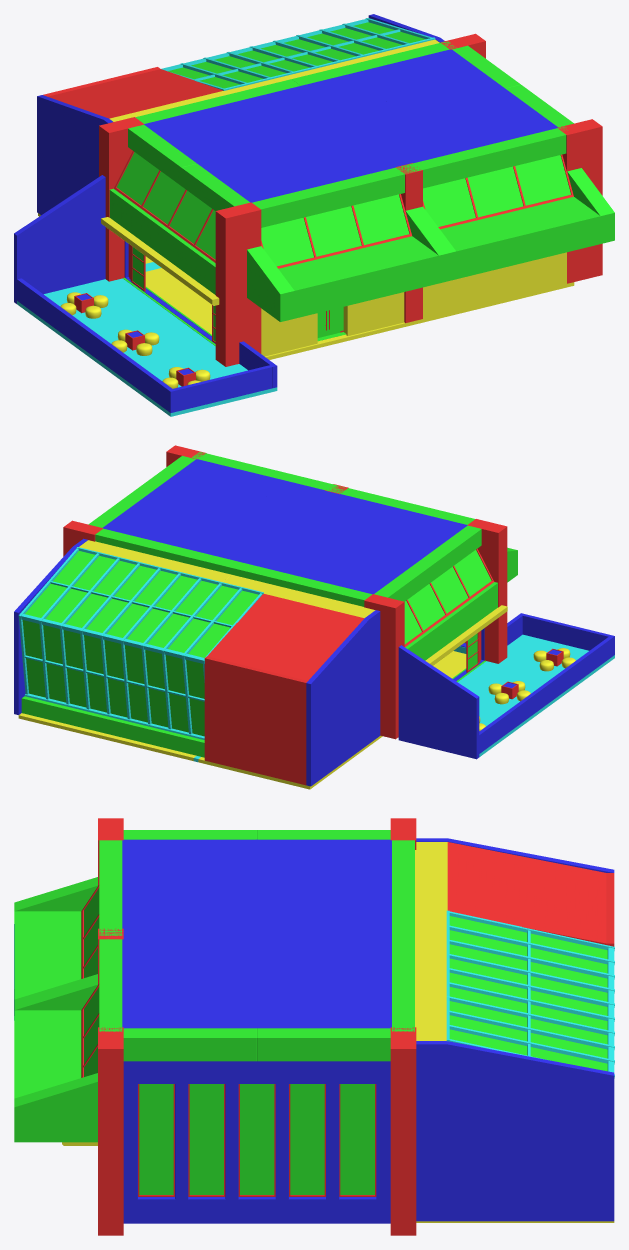
The model's file is OfficeSceneTest.fbx.
The picture shows the model from 3 angles, top to bottom: view 1: azimuth 30°, elevation 25°; view 2: azimuth 150°, elevation 25°; view 3: azimuth 270°, elevation 25°; orthographic projection. The views are drawn at different scales.
Visible parts, largest first — view 1: SM_BeamB01 (×2), SM_BeamD01, SM_CeilingC03, SM_CeilingC02, SM_CeilingC01, SM_BeamD02, SM_WallD01, SM_SkylightC01, SM_SkylightC02, SM_ColumnA03, SM_WallB02, SM_SkylightB01 (+28 smaller); view 2: SM_WallC01, SM_SkylightA01, SM_WallB02, SM_CeilingC03, SM_CeilingC02, SM_CeilingC01, SM_CeilingB01, SM_WallD01, SM_BeamB01 (×2), SM_SkylightB01, SM_ColumnA01, SM_CeilingA01 (+57 smaller); view 3: SM_WallB01, SM_WallA01, SM_CeilingC03, SM_CeilingC01, SM_CeilingC02, SM_BeamD02, SM_CeilingB01, SM_SkylightA01, SM_BeamA01, SM_BeamB01 (×2), SM_BeamD01, SM_CeilingA01 (+32 smaller).
Part boxes in pixels (x1,y1,x2,y2): SM_BeamB01 (×2): (135, 41, 567, 227); SM_BeamD01: (247, 209, 447, 321); SM_CeilingC03: (349, 49, 557, 152); SM_CeilingC02: (246, 74, 455, 177); SM_CeilingC01: (144, 99, 352, 202); SM_BeamD02: (414, 168, 614, 281); SM_WallD01: (14, 175, 105, 303); SM_SkylightC01: (261, 194, 411, 268); SM_SkylightC02: (423, 154, 573, 229); SM_ColumnA03: (215, 202, 261, 366); SM_WallB02: (37, 95, 112, 215); SM_SkylightB01: (114, 151, 215, 262); SM_WallC01: (204, 656, 307, 785); SM_SkylightA01: (18, 547, 263, 739); SM_WallB02: (306, 610, 380, 786); SM_CeilingC03: (103, 459, 286, 550); SM_CeilingC02: (193, 481, 377, 572); SM_CeilingC01: (284, 503, 467, 594); SM_CeilingB01: (207, 594, 363, 680); SM_WallD01: (398, 645, 479, 759); SM_BeamB01 (×2): (95, 452, 474, 606); SM_SkylightB01: (404, 548, 494, 646); SM_ColumnA01: (364, 594, 404, 739); SM_CeilingA01: (79, 540, 375, 618); SM_WallB01: (416, 1041, 614, 1221); SM_WallA01: (123, 1061, 390, 1223); SM_CeilingC03: (122, 965, 391, 1028); SM_CeilingC01: (122, 839, 391, 902); SM_CeilingC02: (122, 902, 391, 965); SM_BeamD02: (14, 979, 97, 1142); SM_CeilingB01: (447, 842, 606, 944); SM_SkylightA01: (446, 910, 614, 1078); SM_BeamA01: (123, 1028, 390, 1061); SM_BeamB01 (×2): (99, 840, 414, 1031); SM_BeamD01: (14, 877, 97, 1004); SM_CeilingA01: (415, 842, 447, 1040).
Size of the model in its own units: 26.22 by 23.38 by 8.2.
